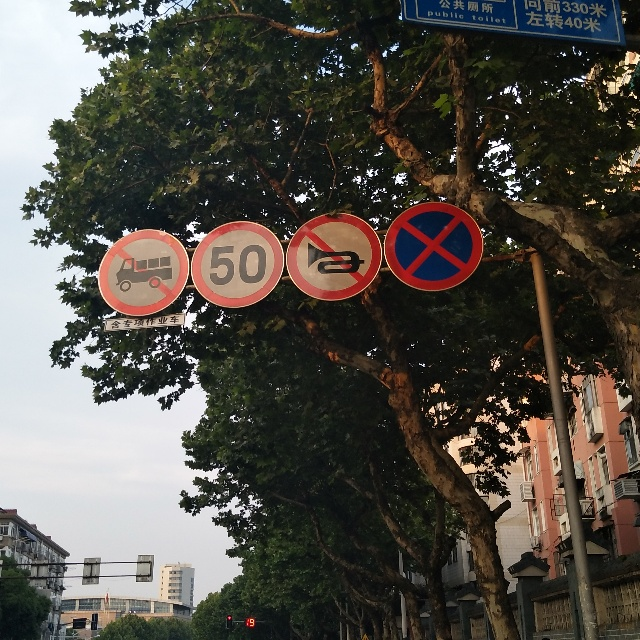nohonk: (286, 213, 382, 301)
stop: (384, 201, 483, 291)
